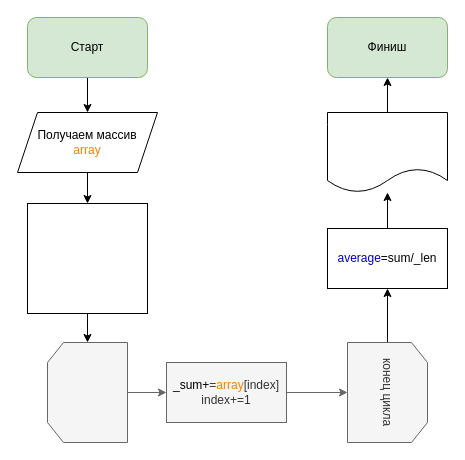
The diagram is 465 pixels wide and 460 high, and some of its shapes have lost their labels. The centre of each missing label's shape, as x and y in pixels:
"average" belongs at point (387, 152).
"Задаём сопроводительные величины: _len=len( array ) average =0 _sum=0 index=0" belongs at point (87, 258).
"начало цикла от index до _len-1" belongs at point (87, 392).
